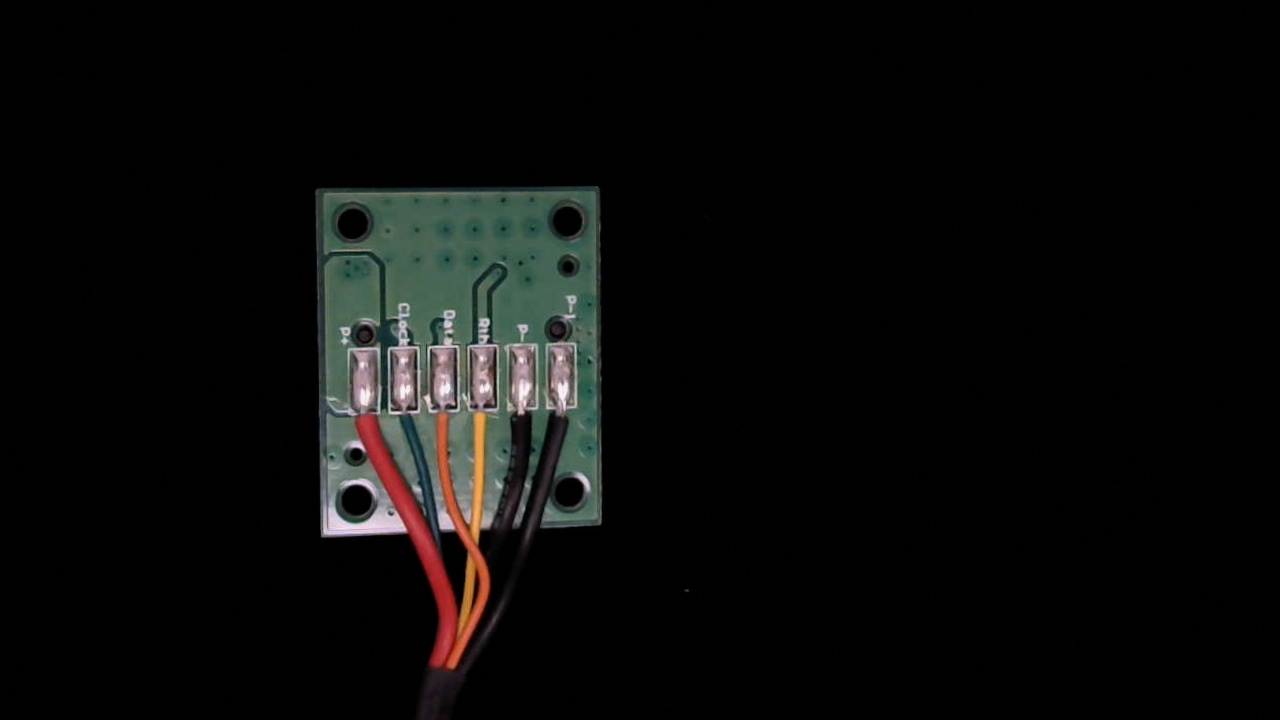Black: (502, 390, 538, 467)
Black1: (544, 392, 578, 462)
Green: (388, 392, 421, 451)
Orange: (427, 393, 460, 459)
Red: (349, 389, 385, 462)
Yellow: (462, 393, 498, 470)
